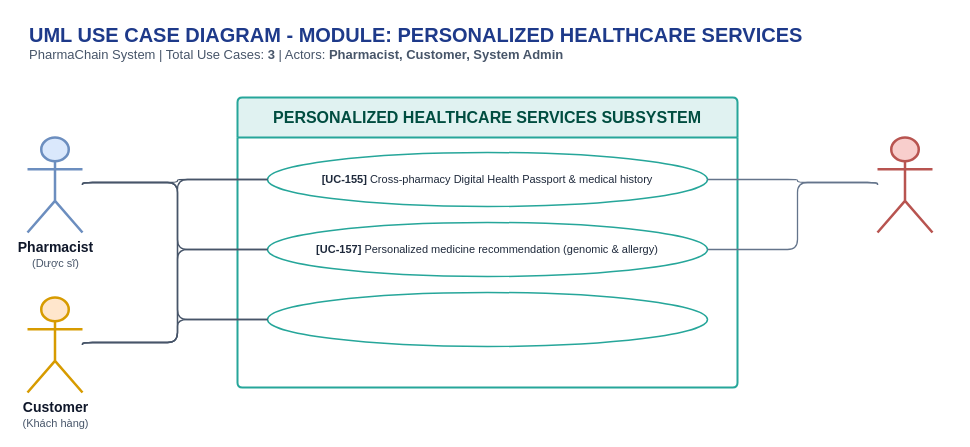
The diagram is 970 pixels wide and 447 high, and some of its shapes have lost their labels. The shapes that lost their labels are listed below. From the top down, each one's centre as x and y in pixels, then its label:
At [904,184]: "System Admin (Quản trị hệ thống)".
At [487,319]: "[UC-159] Medication adherence tracking & physician progress report".
